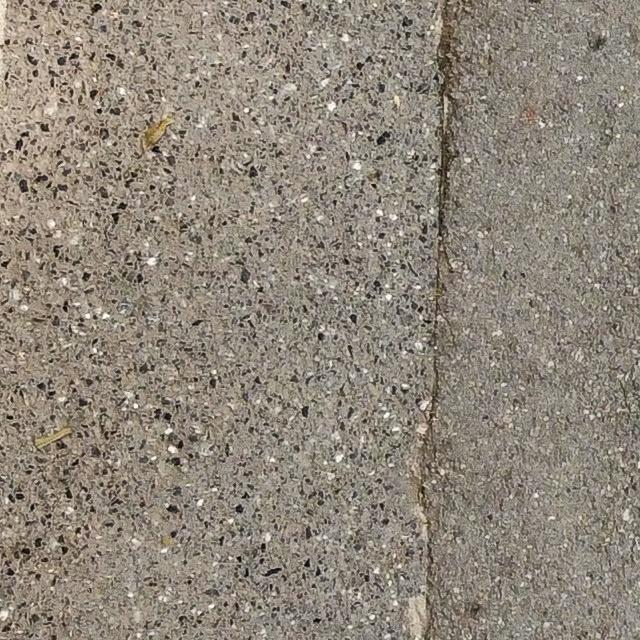LongitudinalCrack: (415, 1, 458, 638)
